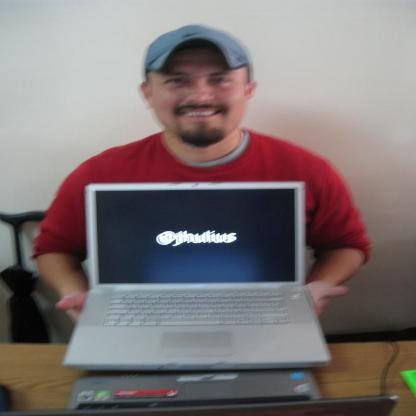board: (60, 181, 333, 370), (0, 369, 396, 415)
